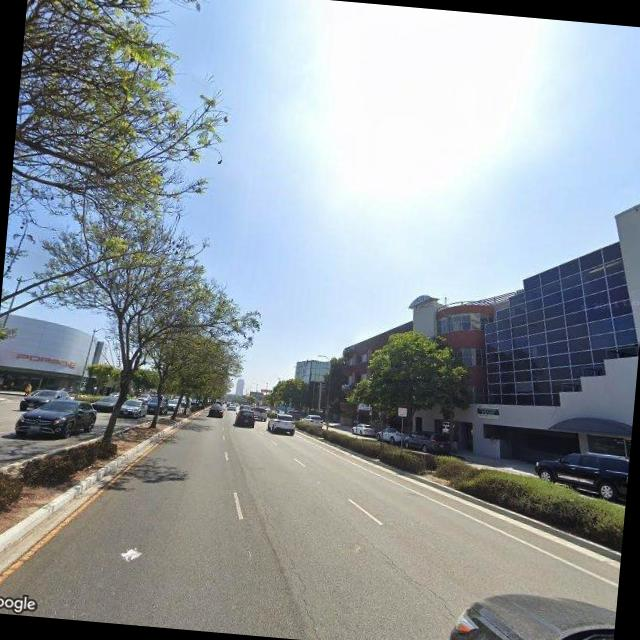crack: (330, 517, 466, 620), (271, 541, 343, 640)
